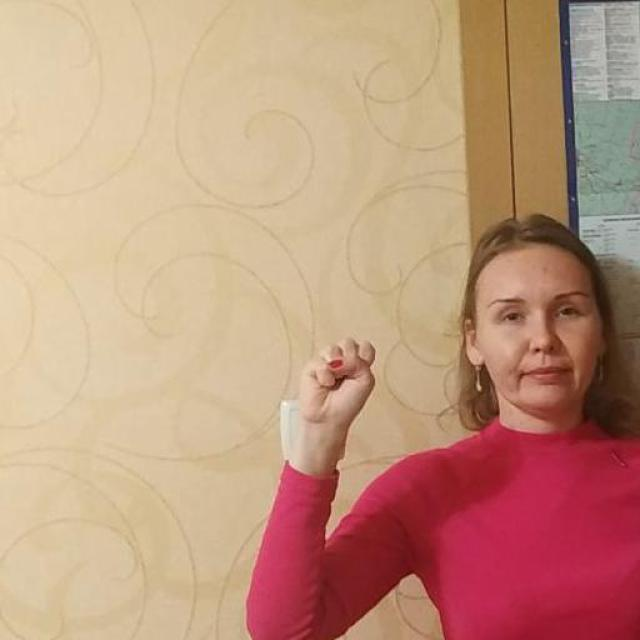hand: (296, 335, 376, 435)
